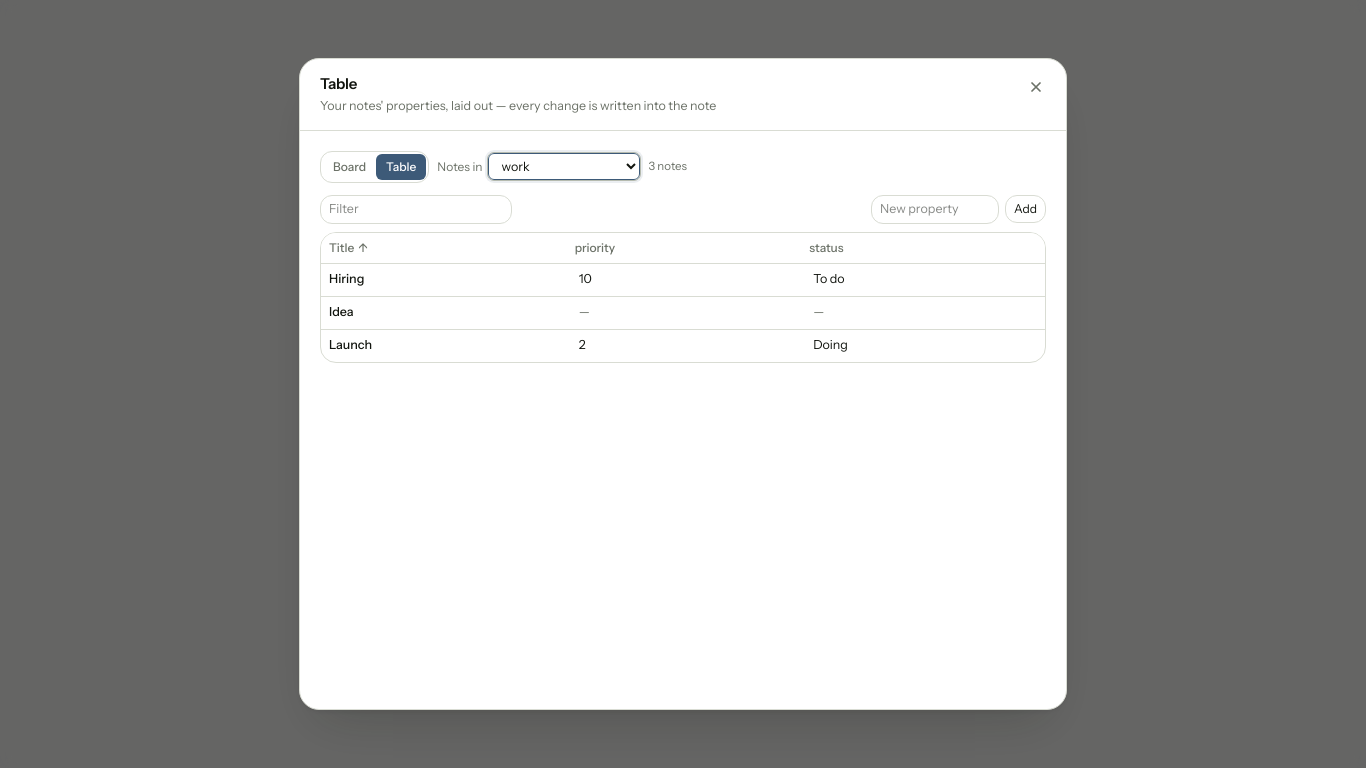
Test: FolderViewsDialog — table › filters rows and adds a property column
Expected: the button "Launch" is shown, [329, 336, 372, 355]
In the search field named "Filter rows": (416, 209) [320, 195, 512, 224], type "doing"
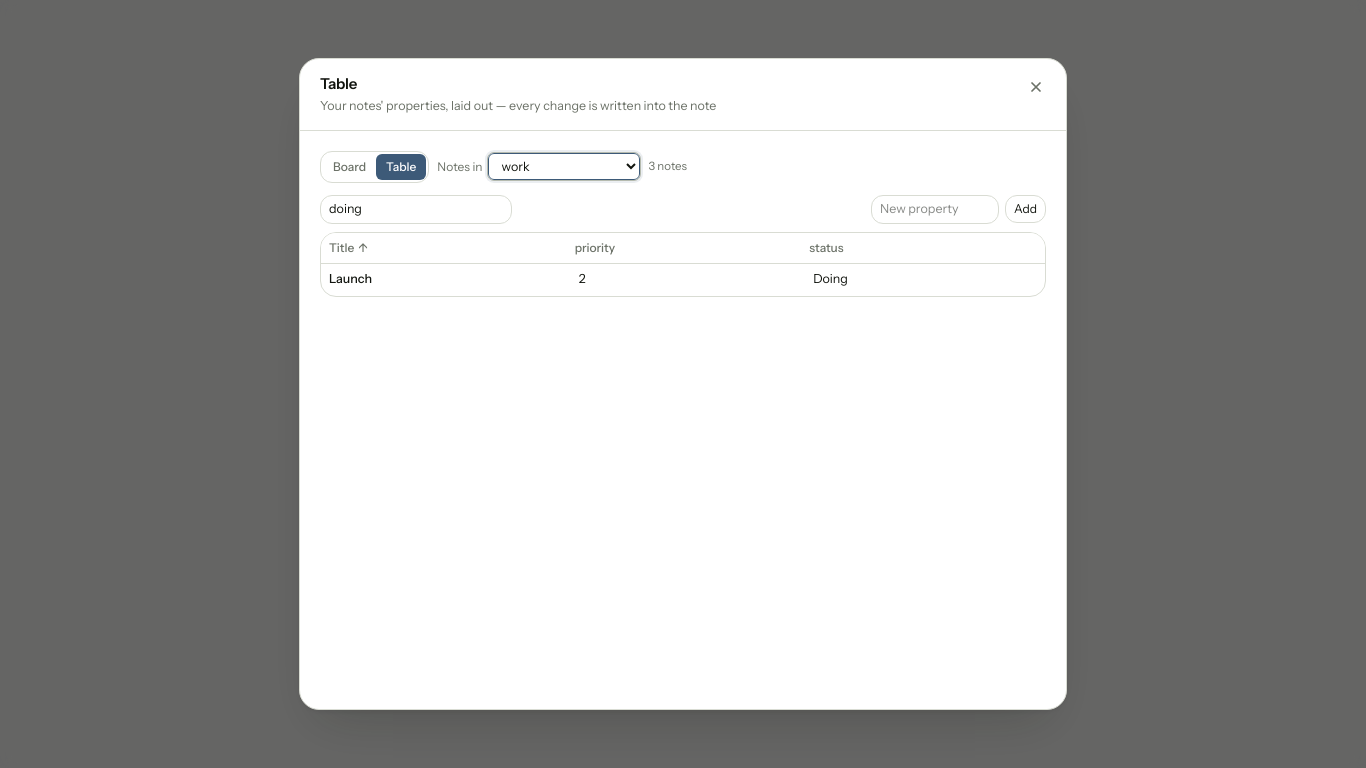
In the field named "New property name": (935, 209) [871, 195, 999, 224], type "owner"
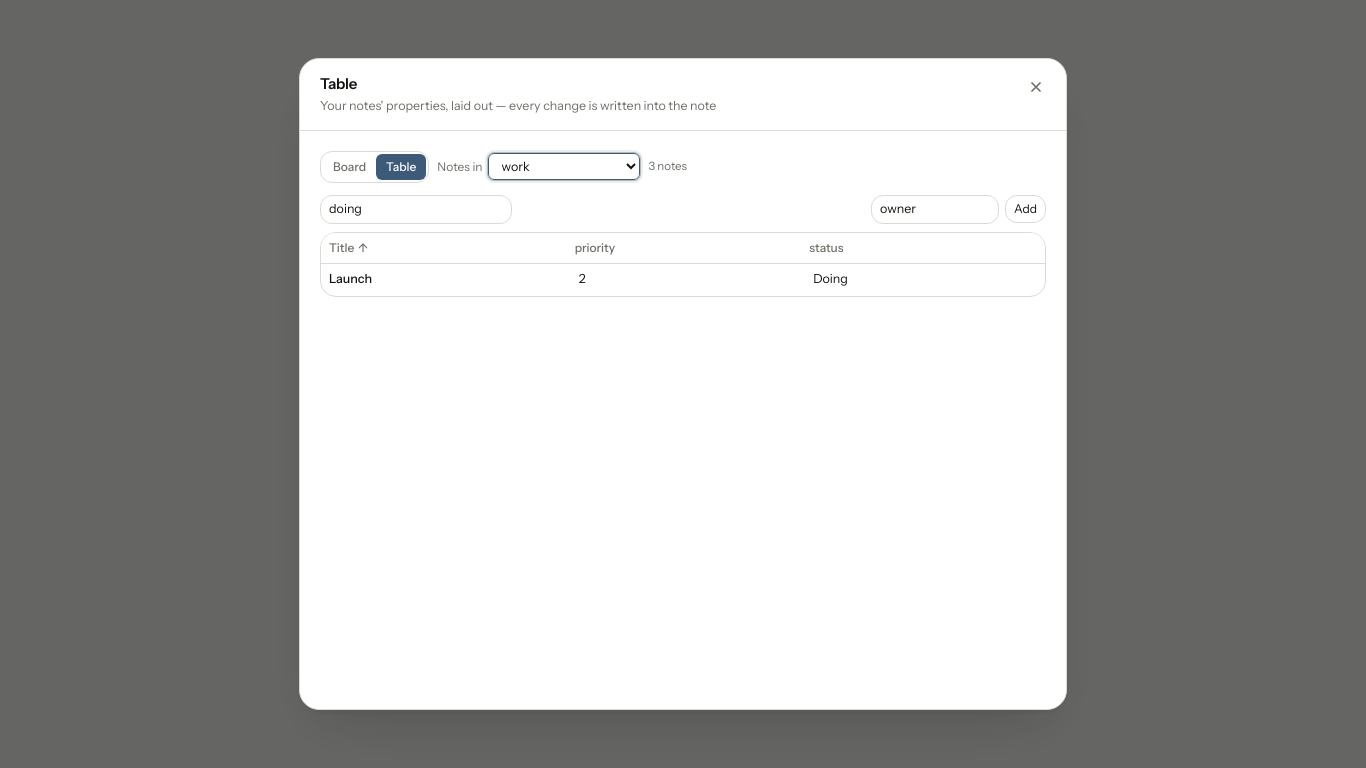
Click the button "Add": (1026, 209) [1005, 195, 1046, 223]
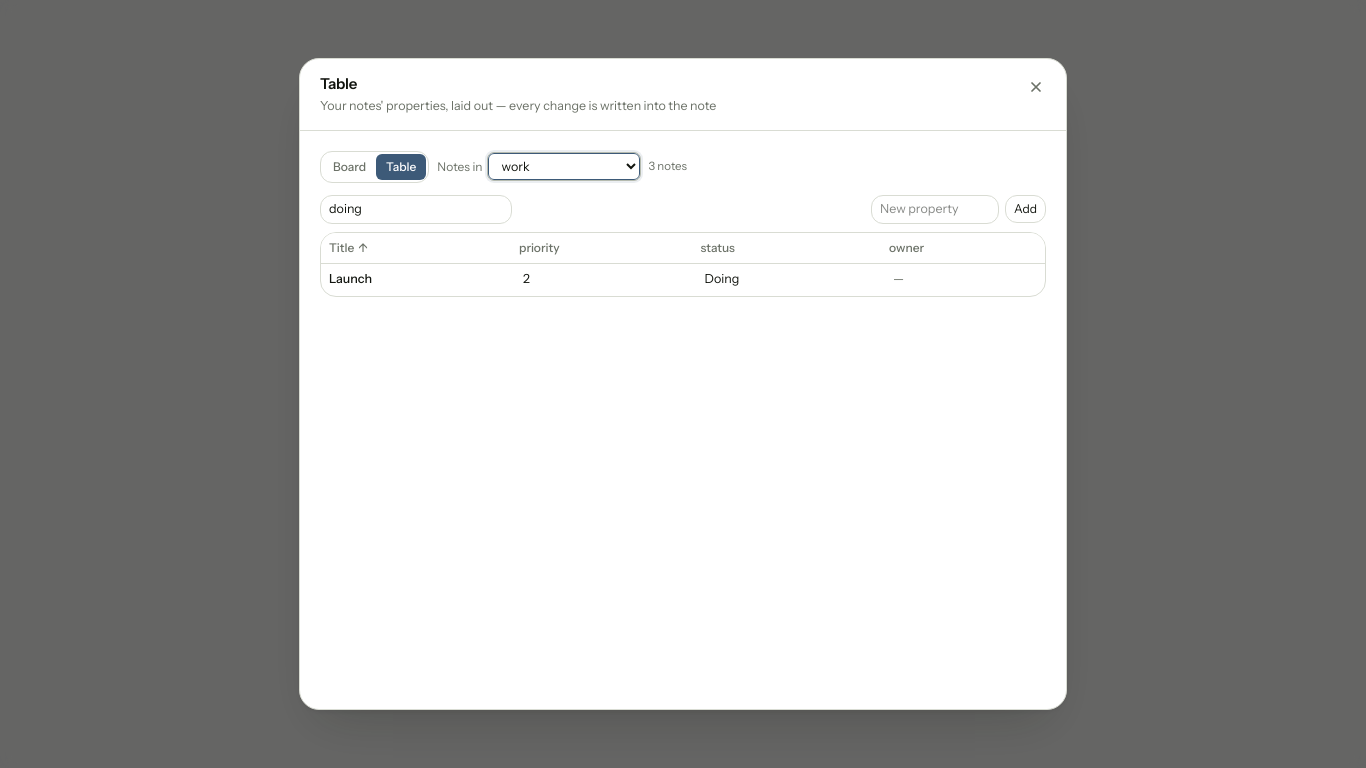
Result: the button "owner" is shown at [889, 239, 924, 257]
